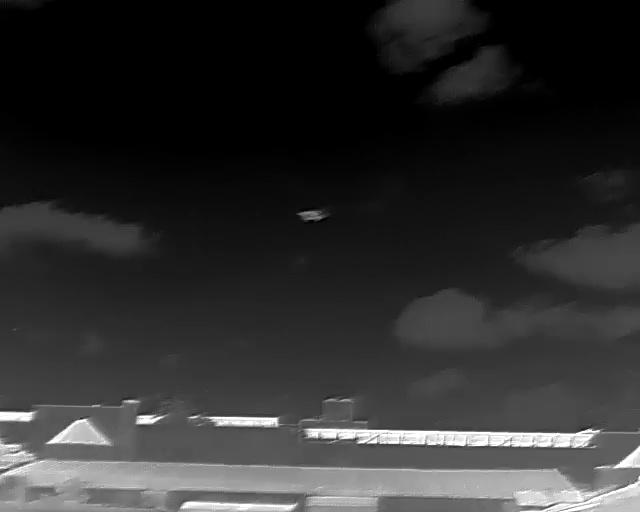fpv-drone: (296, 208, 330, 222)
